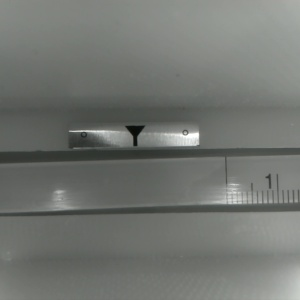1: (265, 173, 272, 189)
finger: (124, 126, 144, 144)
